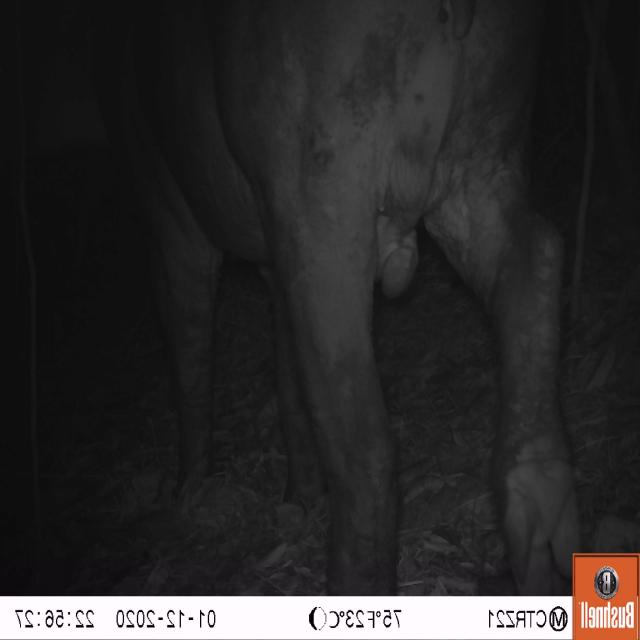Lowland Tapir: (25, 7, 581, 600)
